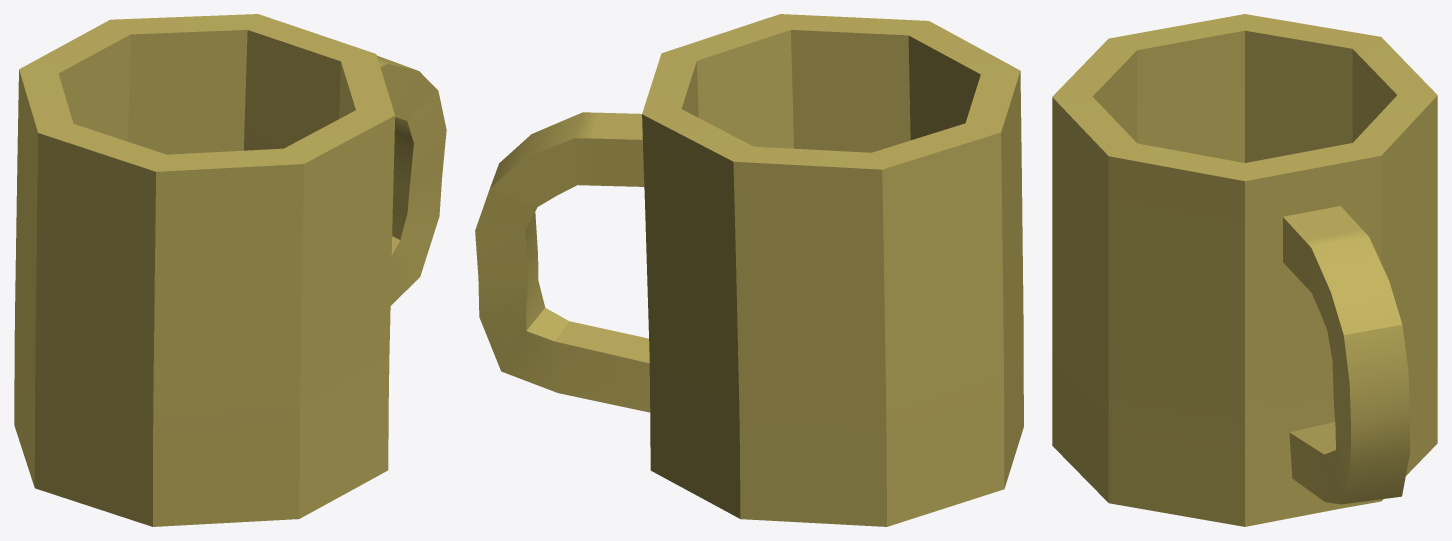
The model's file is cup.fbx.
3 views of the same model, side by side, from view 1: azimuth 30°, elevation 25°; view 2: azimuth 150°, elevation 25°; view 3: azimuth 270°, elevation 25° (orthographic).
Parts seen in each view (by area): view 1: office_stuff:pCylinder3; view 2: office_stuff:pCylinder3; view 3: office_stuff:pCylinder3.
Boxes of the visible parts, x1,y1,x2,y2 form: office_stuff:pCylinder3: (14, 14, 446, 526); office_stuff:pCylinder3: (475, 14, 1023, 526); office_stuff:pCylinder3: (1052, 14, 1437, 526).
Size of the model in its own units: 2.76 by 2.03 by 2.
